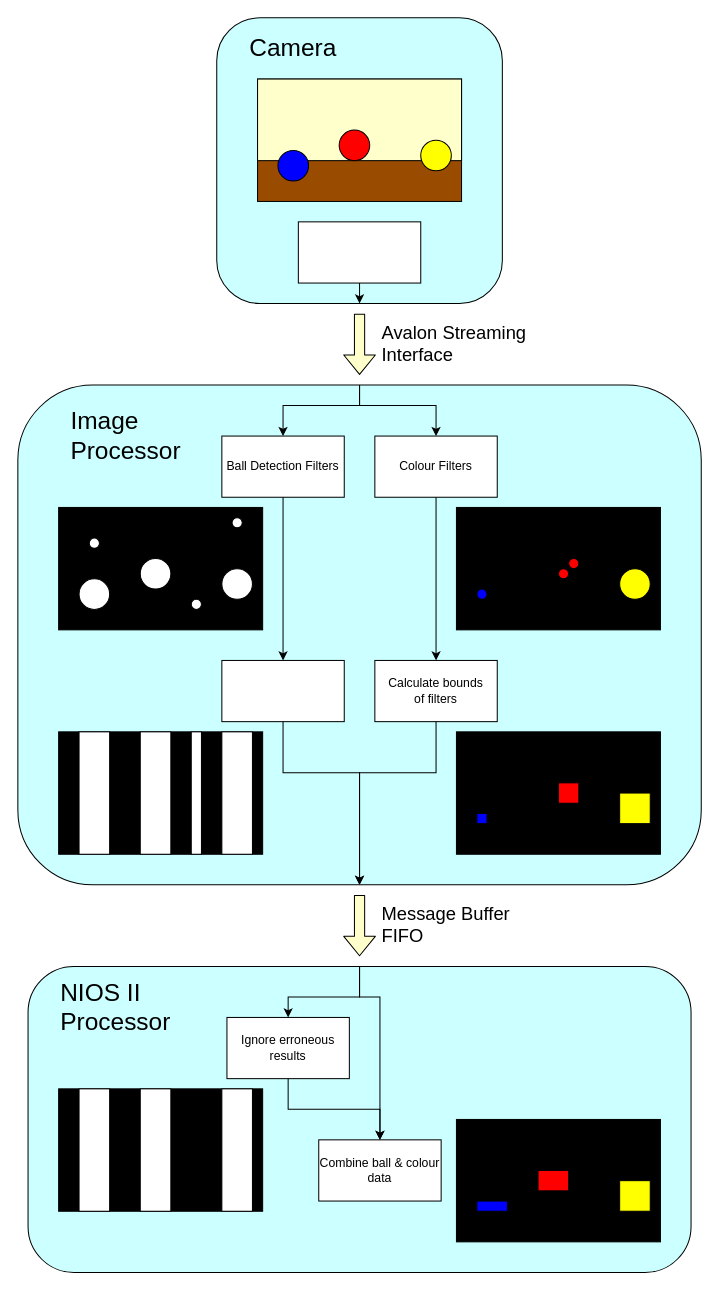
This 719x1290 diagram has some shape labels left out. The box of each missing label's shape, as (x1, y1, x2, y2) in pixels:
Group pixels by column, calculate bounds of balls: (221, 659, 344, 722)
RGB pixel data: (297, 221, 421, 283)
